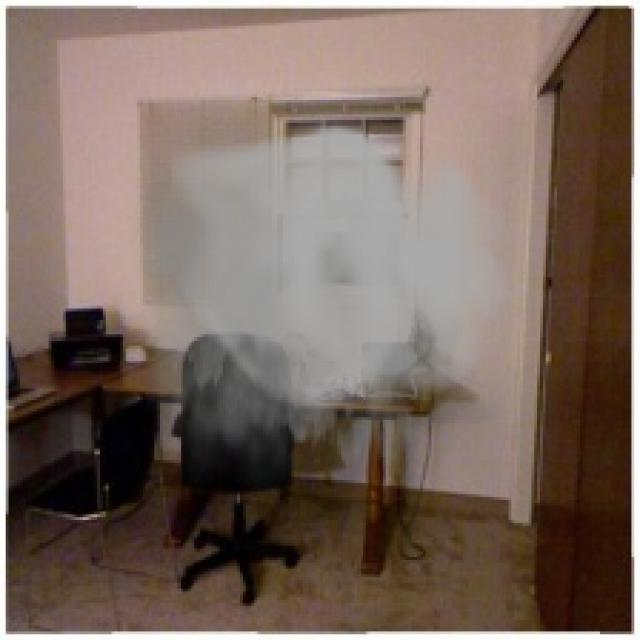Smoke: (120, 117, 512, 514)
